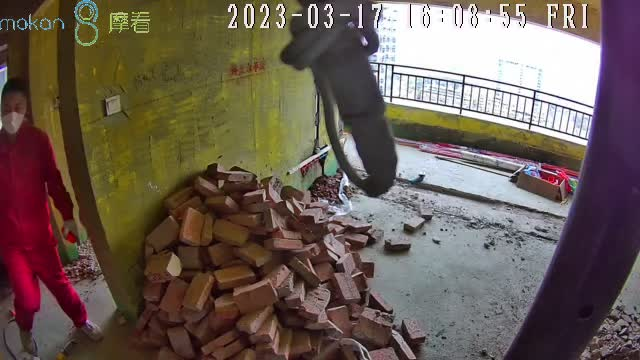people: (1, 80, 103, 356)
window: (351, 2, 603, 143)
